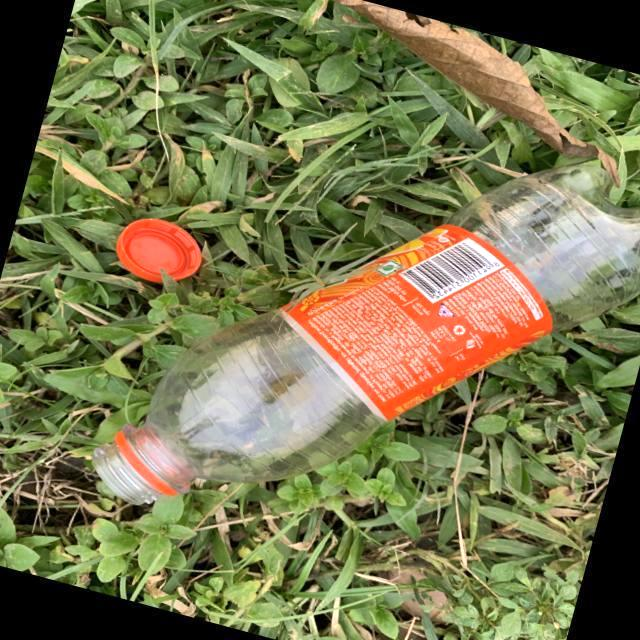bottle: (78, 145, 640, 535)
